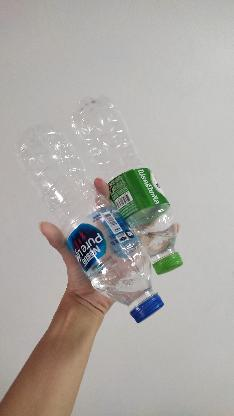Plastic Bottle: (10, 121, 165, 333), (71, 90, 185, 277)
